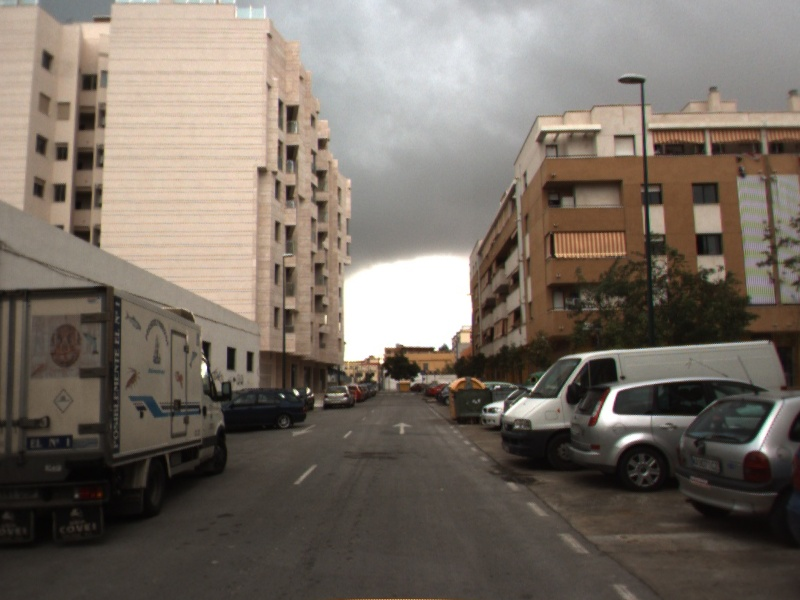STRAIGHT: (390, 420, 416, 437)
